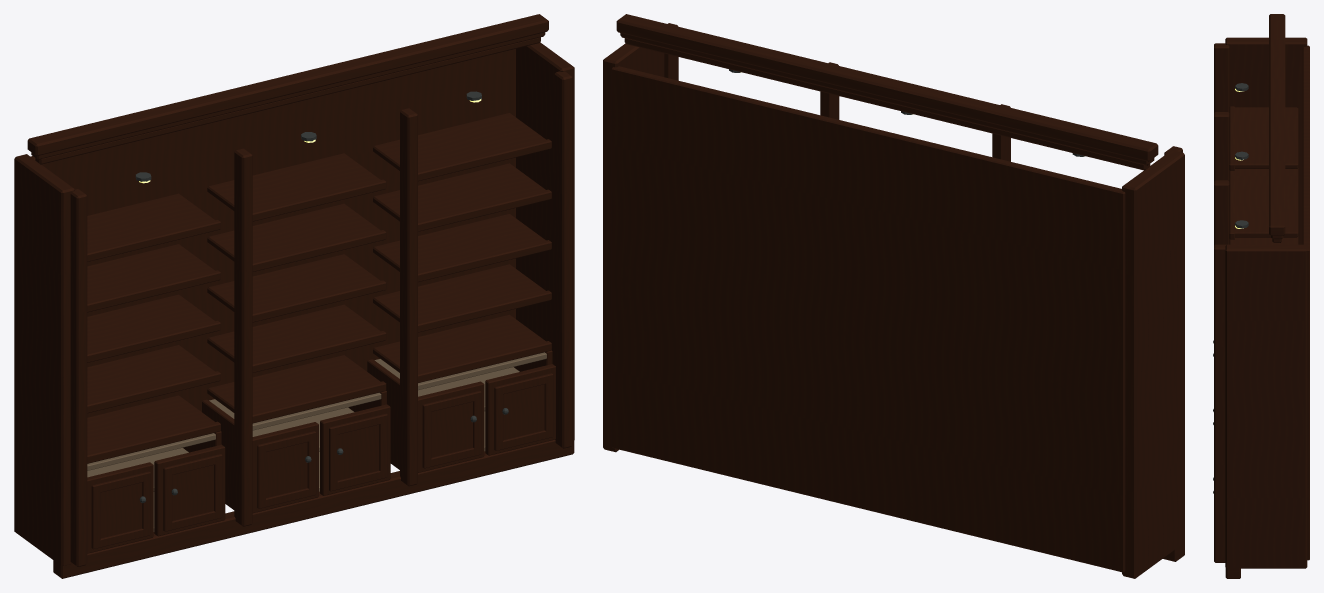
File: shelf_high_end_lod1.glb
3 views of the same model, side by side, from view 1: azimuth 30°, elevation 25°; view 2: azimuth 150°, elevation 25°; view 3: azimuth 270°, elevation 25° (orthographic). The views are drawn at different scales.
Parts seen in each view (by area): view 1: HighEnd_BackCarcass.001, DisplayWall_SidePanel_01.001, CrownMolding_Layer01.001, DisplayWall_SidePanel_02.001, BaseMolding_Layer01.001, Pilaster_02.001, Pilaster_04.001, Pilaster_03.001, Pilaster_01.001, ShelfBoard_Bay02_Level01.001, ShelfBoard_Bay02_Level02.001, ShelfBoard_Bay02_Level03.001 (+50 smaller); view 2: HighEnd_BackCarcass.001, DisplayWall_SidePanel_01.001, CrownMolding_Layer01.001, DisplayWall_SidePanel_02.001, CrownMolding_Layer03.001, CrownMolding_Layer02.001; view 3: DisplayWall_SidePanel_02.001, DisplayWall_SidePanel_01.001, Pilaster_04.001, CrownMolding_Layer01.001, ShelfBoard_Bay02_Level05.001, ShelfBoard_Bay01_Level05.001, HighEnd_BackCarcass.001, Pilaster_02.001, Pilaster_01.001, Pilaster_03.001, ShelfBoard_Bay02_Level04.001, ShelfEdge_Bay02_Level05.001 (+3 smaller).
Boxes of the visible parts, bbox=[...] form: HighEnd_BackCarcass.001: bbox=[30, 49, 515, 417]; DisplayWall_SidePanel_01.001: bbox=[14, 154, 74, 565]; CrownMolding_Layer01.001: bbox=[27, 14, 548, 155]; DisplayWall_SidePanel_02.001: bbox=[516, 42, 574, 441]; BaseMolding_Layer01.001: bbox=[53, 441, 574, 578]; Pilaster_02.001: bbox=[234, 148, 252, 526]; Pilaster_04.001: bbox=[554, 71, 572, 448]; Pilaster_03.001: bbox=[400, 108, 417, 486]; Pilaster_01.001: bbox=[70, 189, 87, 566]; ShelfBoard_Bay02_Level01.001: bbox=[207, 355, 380, 412]; ShelfBoard_Bay02_Level02.001: bbox=[207, 304, 380, 362]; ShelfBoard_Bay02_Level03.001: bbox=[207, 254, 380, 311]; HighEnd_BackCarcass.001: bbox=[611, 66, 1125, 572]; DisplayWall_SidePanel_01.001: bbox=[1122, 150, 1184, 578]; CrownMolding_Layer01.001: bbox=[616, 14, 1158, 161]; DisplayWall_SidePanel_02.001: bbox=[603, 43, 664, 452]; CrownMolding_Layer03.001: bbox=[624, 38, 1150, 170]; CrownMolding_Layer02.001: bbox=[620, 33, 1154, 165]; DisplayWall_SidePanel_02.001: bbox=[1225, 244, 1307, 568]; DisplayWall_SidePanel_01.001: bbox=[1225, 37, 1307, 244]; Pilaster_04.001: bbox=[1214, 244, 1226, 562]; CrownMolding_Layer01.001: bbox=[1269, 14, 1285, 235]; ShelfBoard_Bay02_Level05.001: bbox=[1234, 176, 1298, 237]; ShelfBoard_Bay01_Level05.001: bbox=[1234, 107, 1298, 168]; HighEnd_BackCarcass.001: bbox=[1302, 45, 1309, 560]; Pilaster_02.001: bbox=[1214, 112, 1229, 181]; Pilaster_01.001: bbox=[1214, 43, 1229, 112]; Pilaster_03.001: bbox=[1214, 180, 1229, 245]; ShelfBoard_Bay02_Level04.001: bbox=[1234, 237, 1298, 244]; ShelfEdge_Bay02_Level05.001: bbox=[1229, 174, 1234, 239].
Bounding box in the file's own units: 3.1 × 2.4 × 0.5965.
5 materials, 2 textured.
